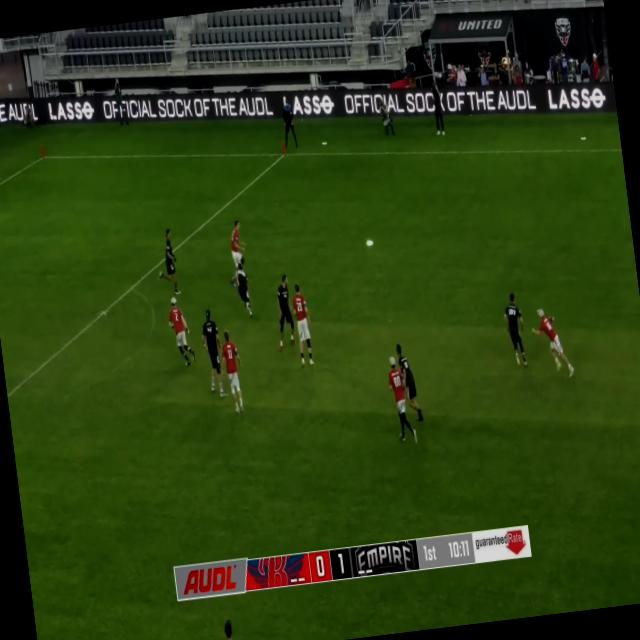Disc: (366, 240, 374, 246), (580, 136, 586, 140), (322, 142, 326, 144)
Player: (529, 305, 575, 381), (385, 354, 417, 445), (216, 328, 247, 416), (200, 308, 228, 399), (396, 342, 424, 424), (290, 283, 316, 367), (166, 296, 197, 366), (501, 292, 529, 369), (270, 274, 297, 350), (152, 228, 180, 296), (223, 220, 250, 286), (235, 263, 252, 319), (280, 100, 298, 148)
